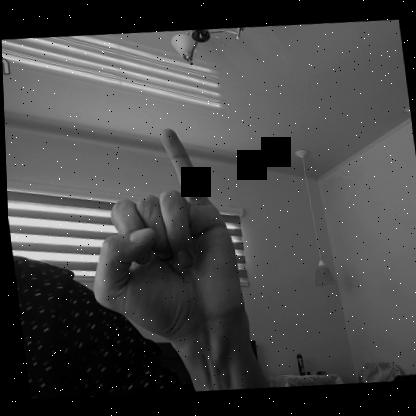I: (68, 118, 249, 334)
